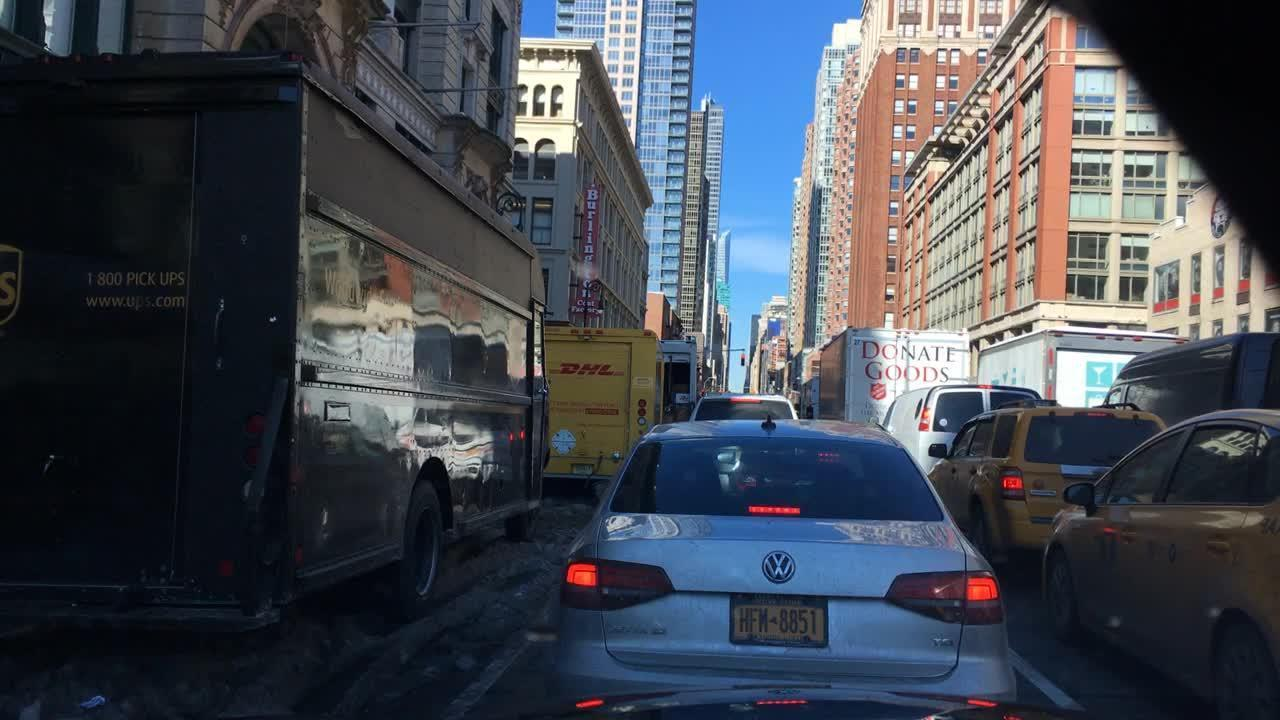Volkswagen: (760, 543, 797, 586)
